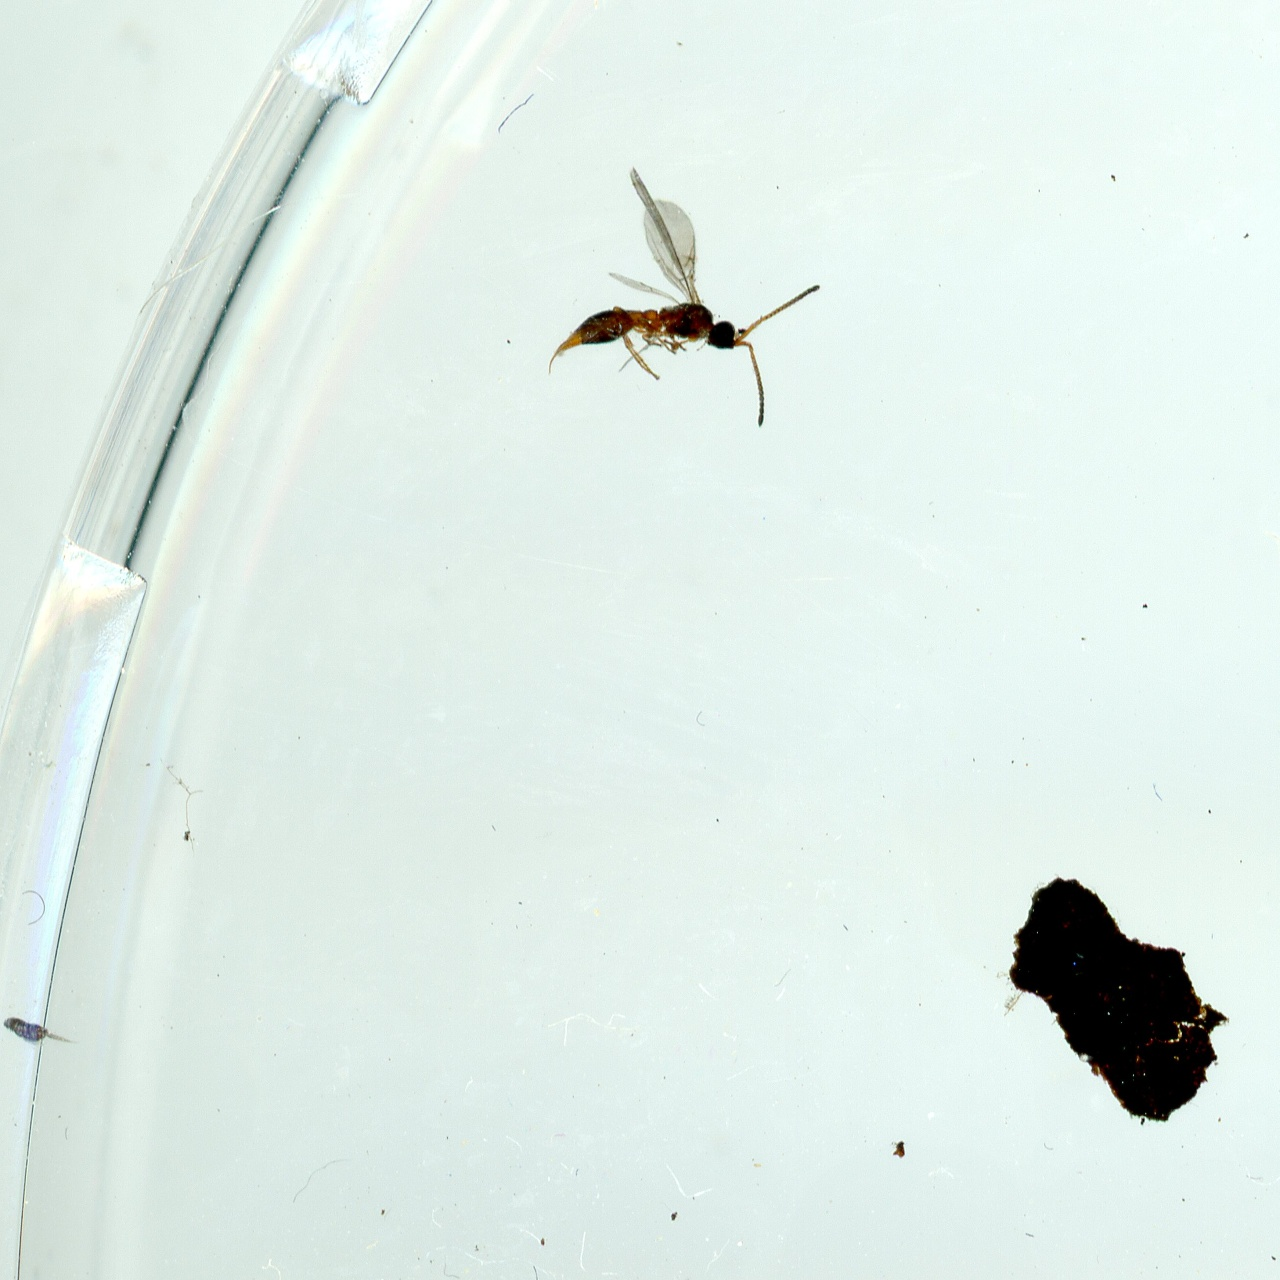arthropod: (543, 160, 825, 439)
